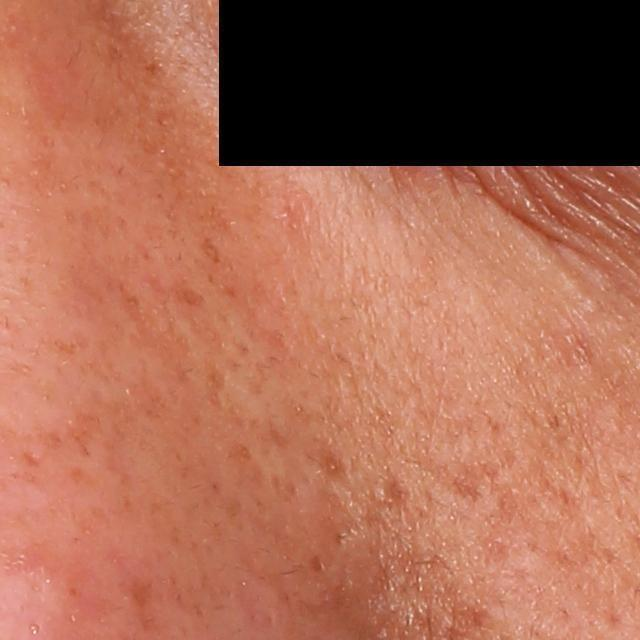melasma: (115, 563, 162, 627), (310, 436, 353, 486), (59, 412, 102, 461), (202, 357, 228, 405), (198, 237, 223, 263)
